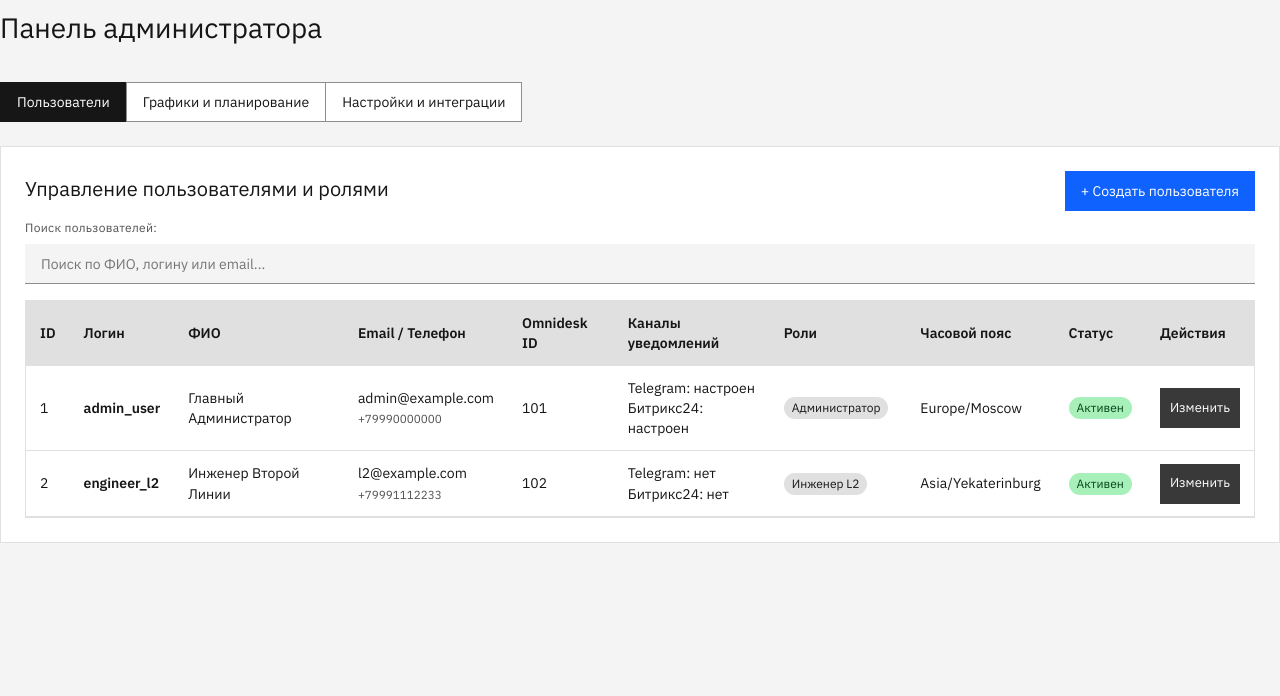
Test: FE-04 AdminWorkspace › edits user with telegram, bitrix24 and notification flags sending only modified fields
Click edit on user 2
Click the button with test id "btn-edit-user-2": coordinates (1200, 484) [1160,464,1240,504]
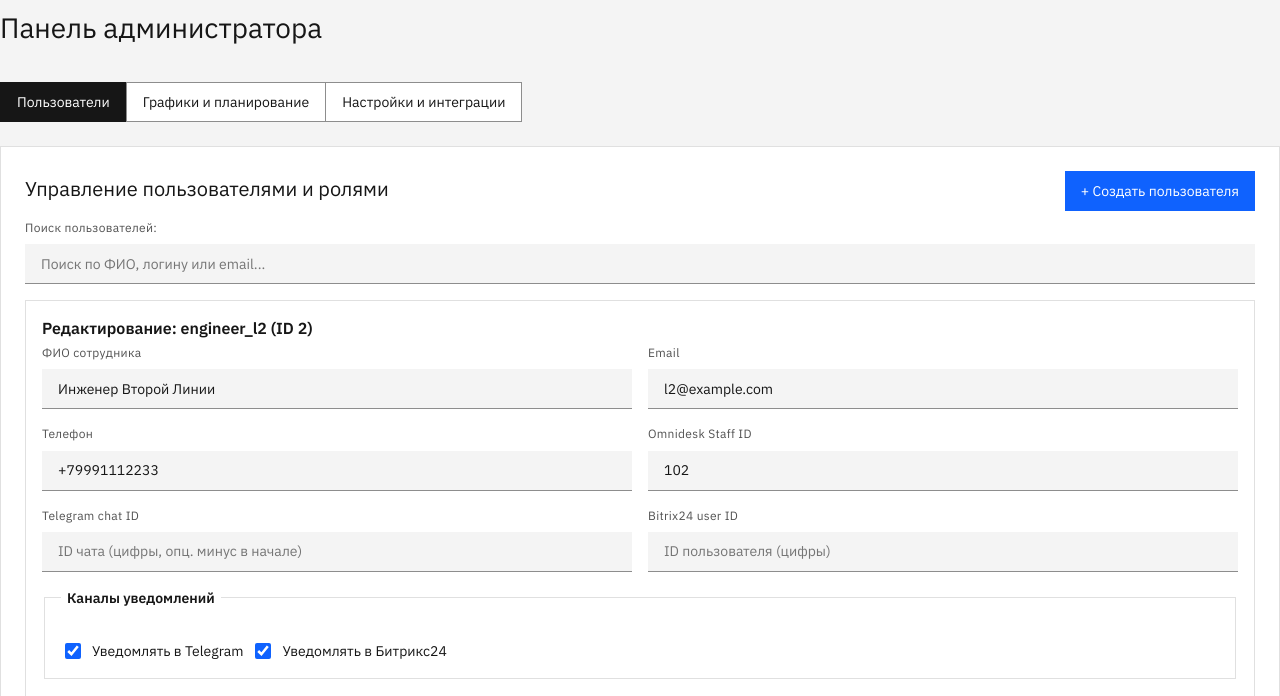
Fill Telegram and Bitrix24 fields and change notify checkbox
In the field with test id "input-edit-telegram-chat-id": coordinates (337, 552) [42,532,632,572], type "-100998877"
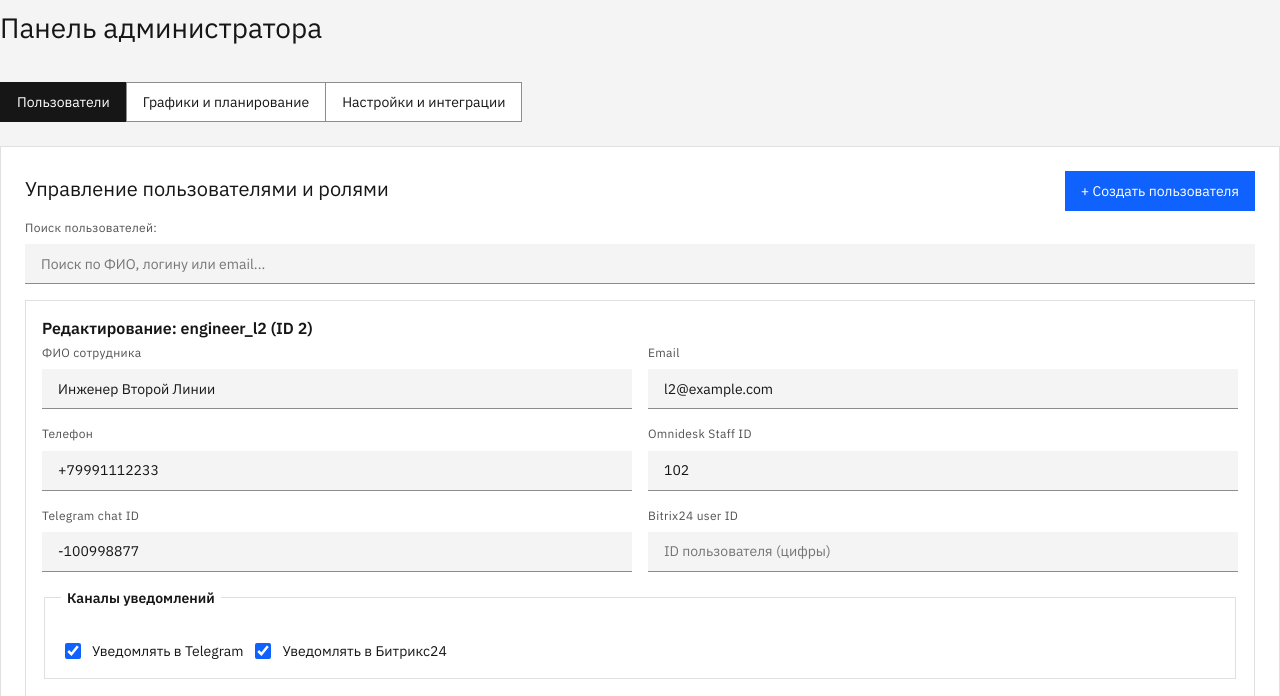
In the field with test id "input-edit-bitrix24-user-id": coordinates (943, 552) [648,532,1238,572], type "777"
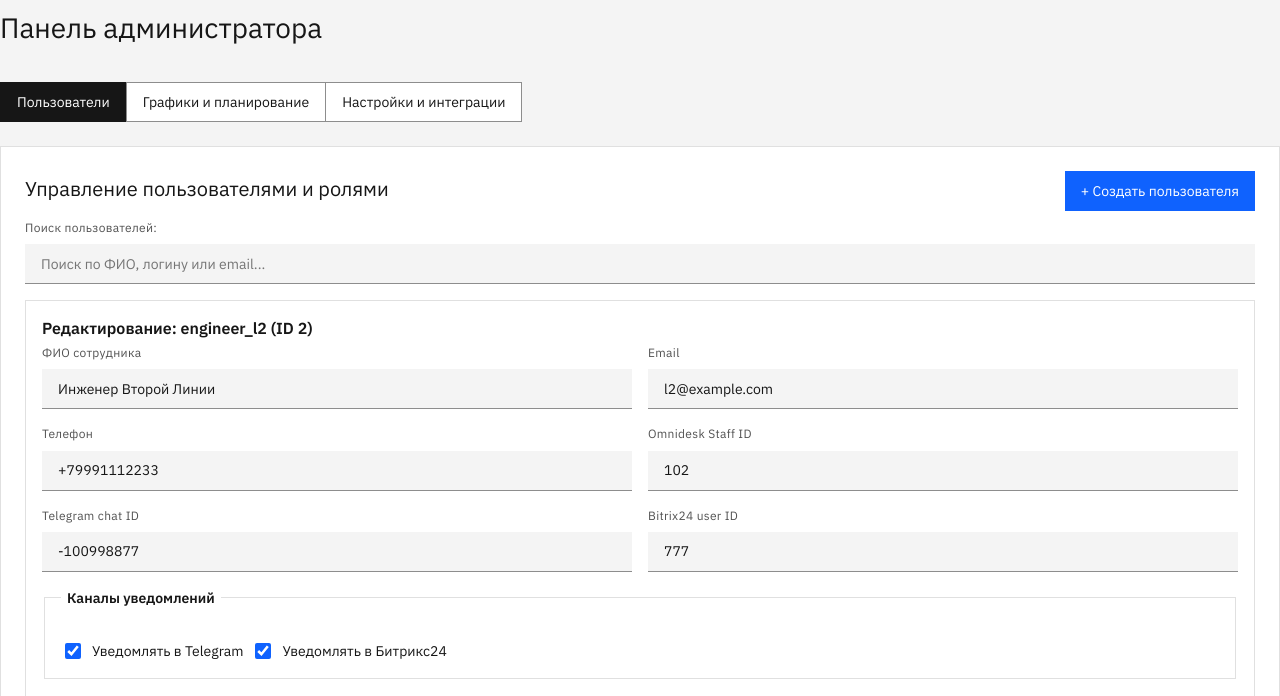
Click the checkbox with test id "checkbox-edit-notify-telegram": coordinates (73, 651) [65,643,81,659]
(page scrolled)
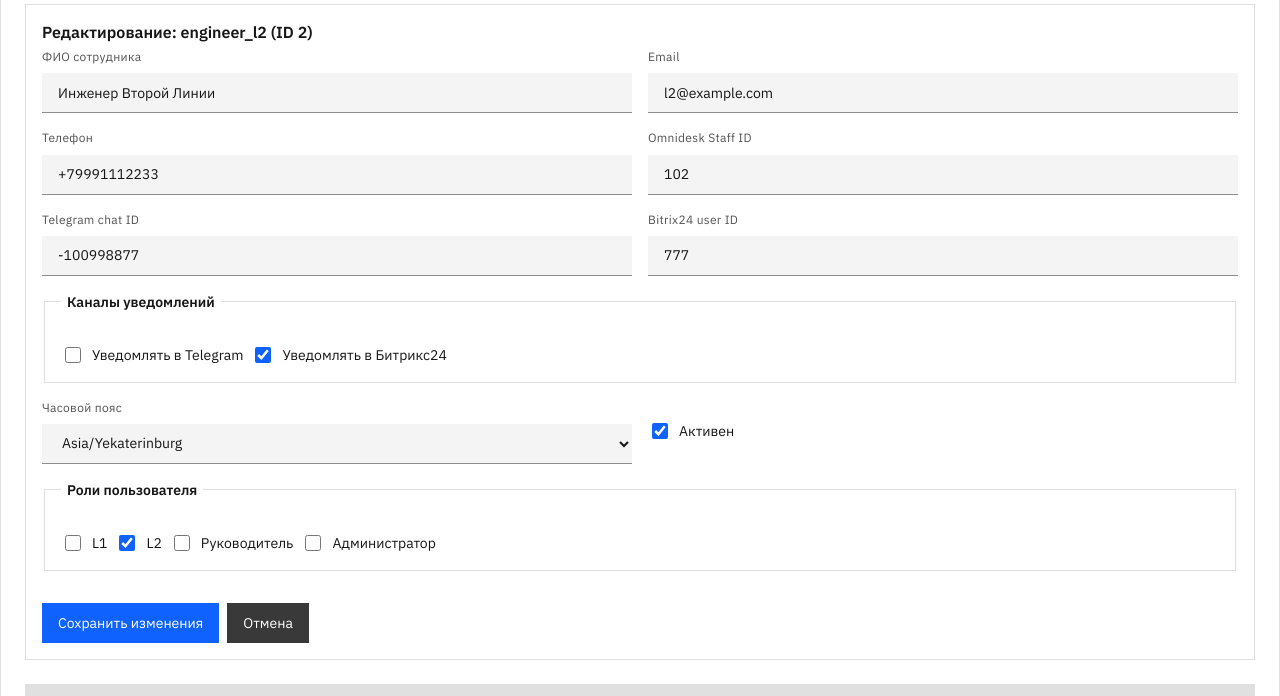
Submit edit form
Submit the form
(page scrolled)
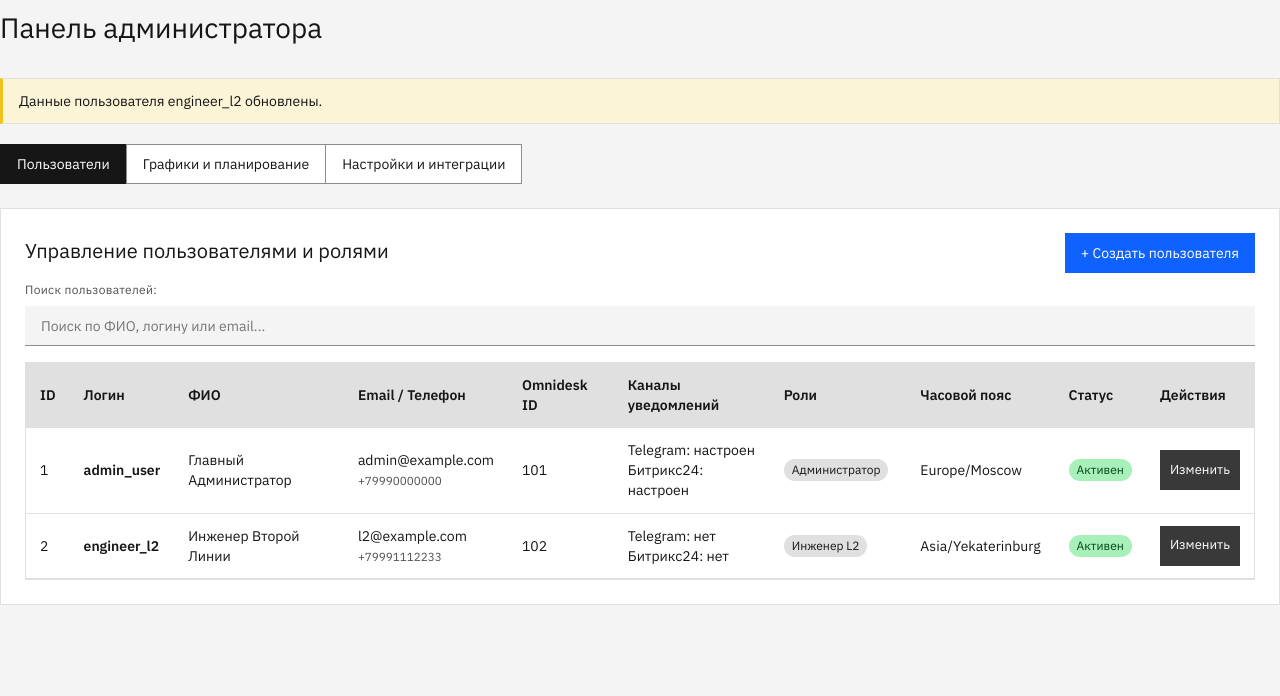
Now the text "Данные пользователя engineer_l2 обновлены." is shown, box [0,78,1279,124]
